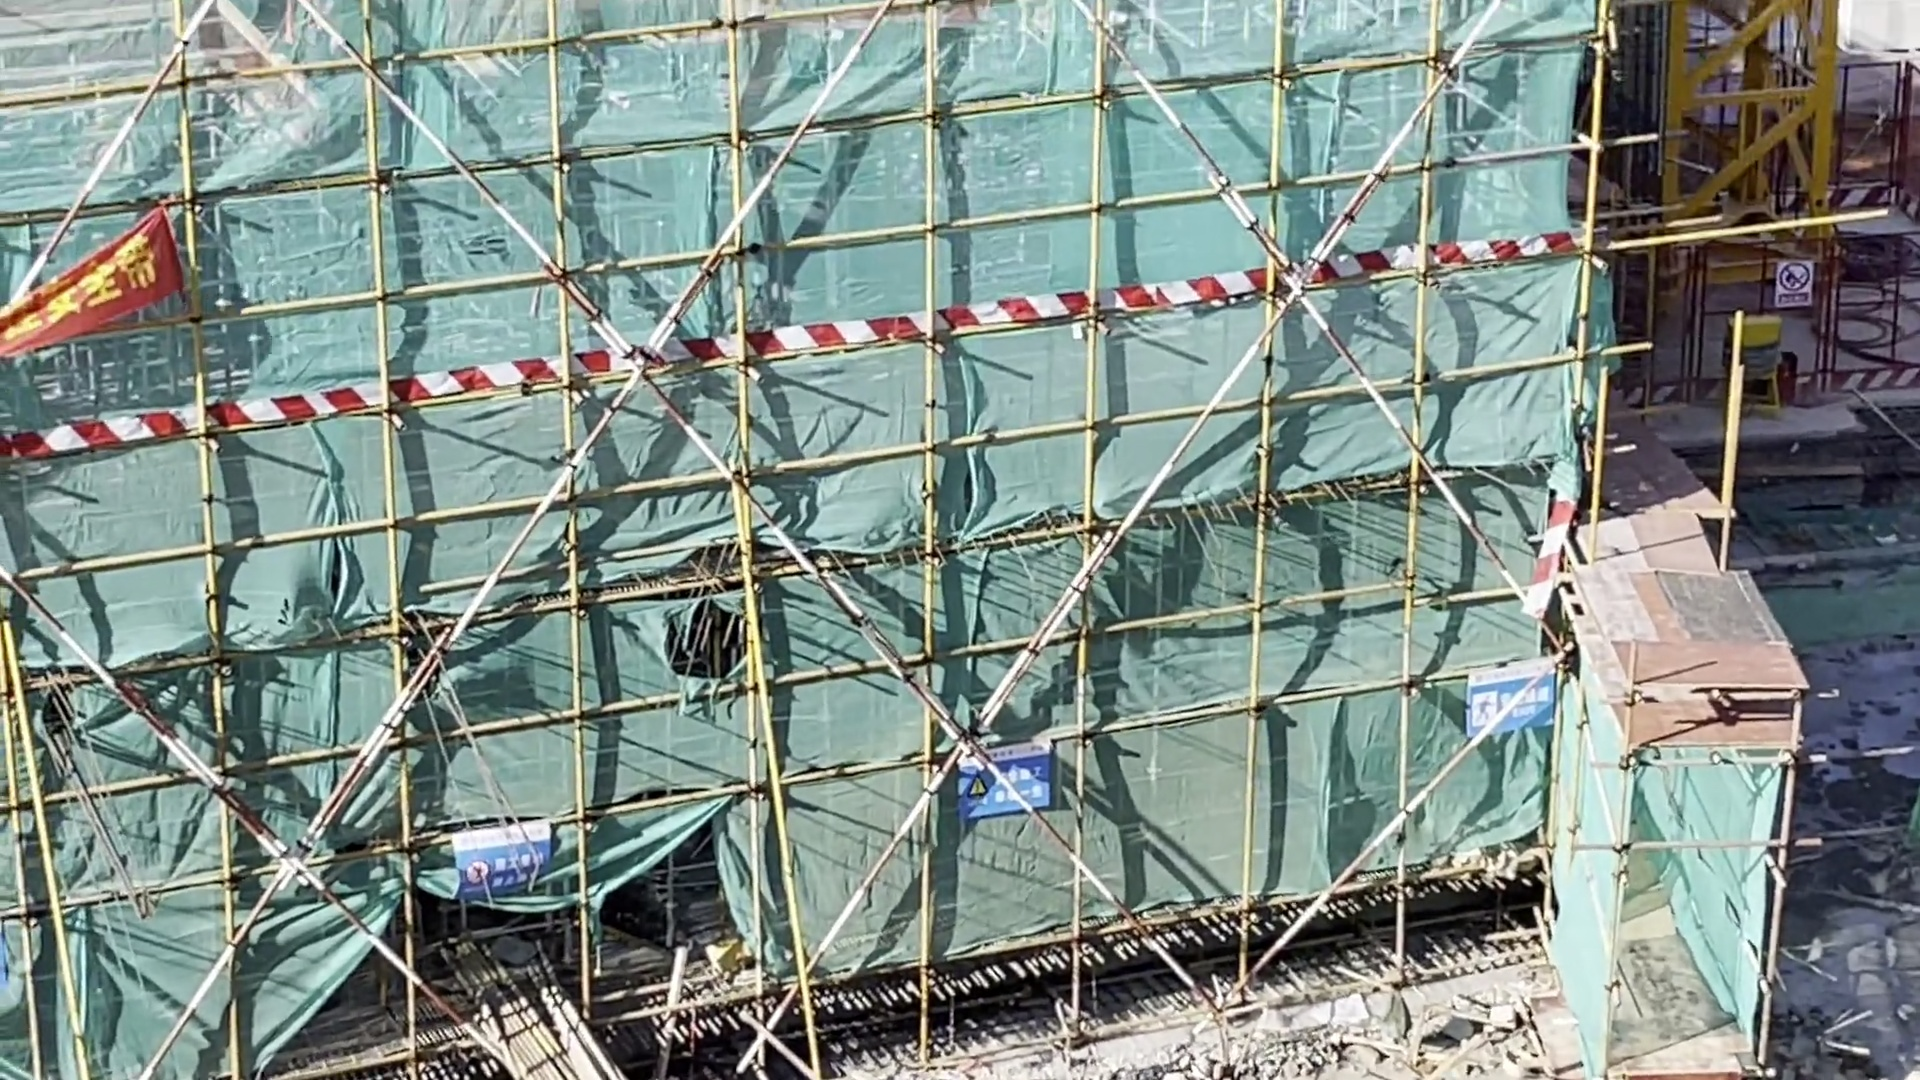slogan: (3, 165, 214, 396), (425, 799, 566, 924), (944, 736, 1084, 843), (1444, 655, 1581, 746)
